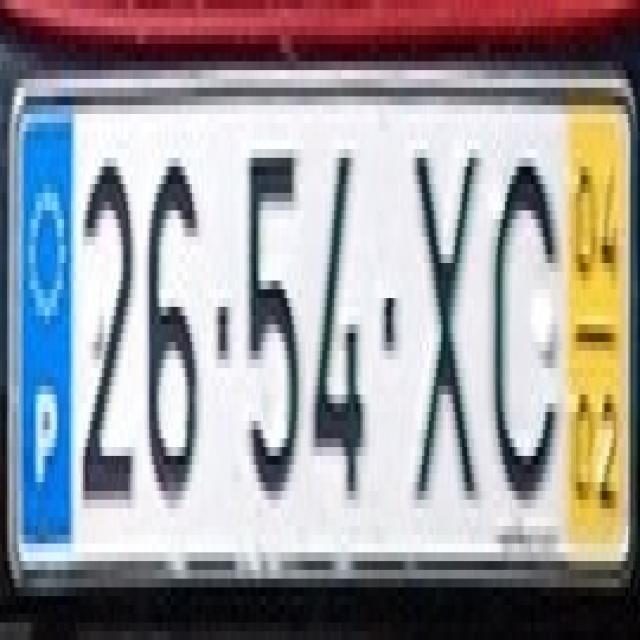2: (74, 132, 138, 508)
4: (306, 132, 372, 500)
5: (234, 132, 304, 500)
6: (138, 132, 206, 500)
C: (484, 132, 566, 500)
X: (398, 132, 476, 500)
